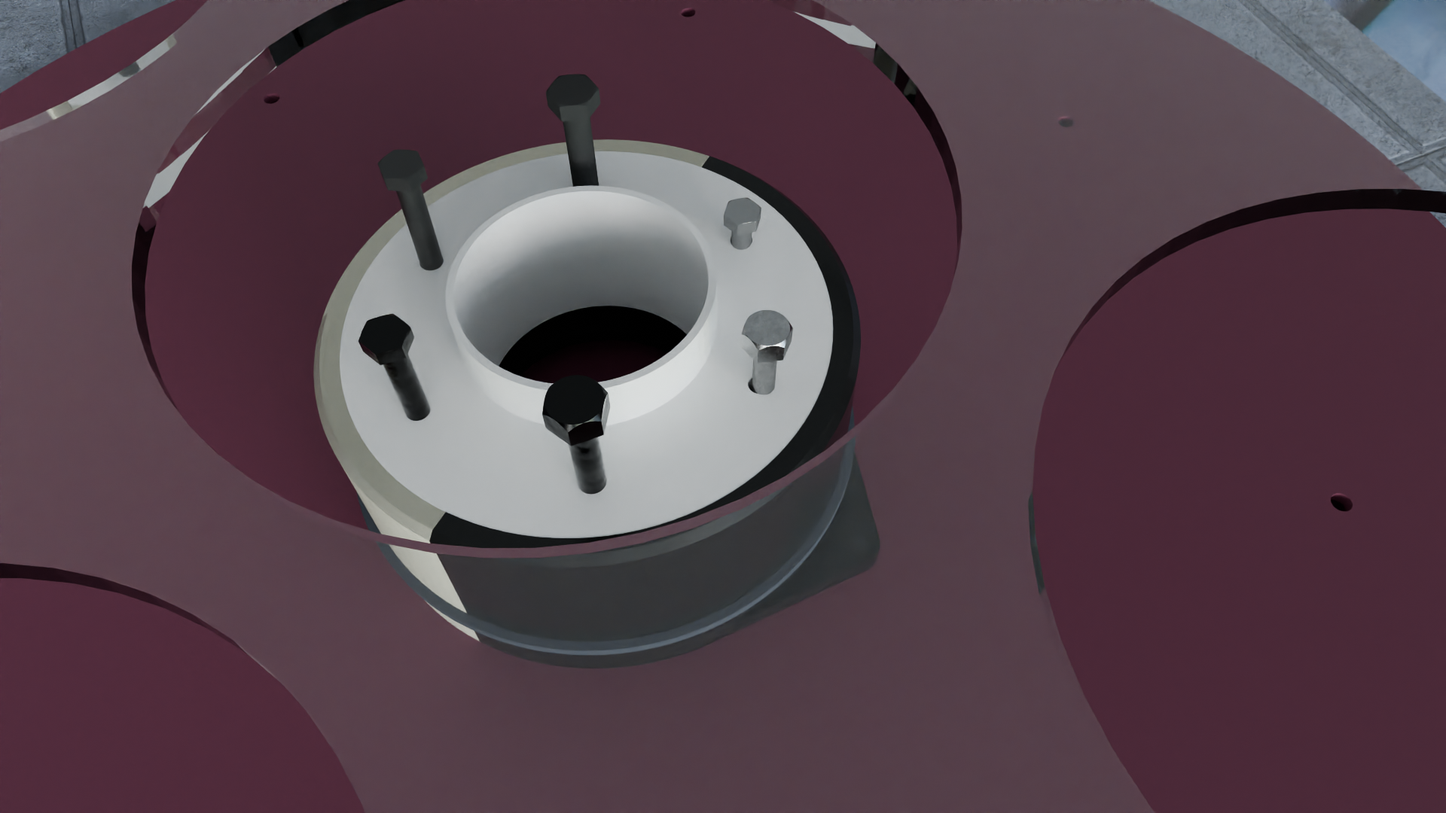bolt: (542, 375, 608, 432), (358, 313, 410, 355), (741, 310, 793, 351), (546, 74, 599, 107), (377, 150, 424, 180), (724, 197, 761, 226)
